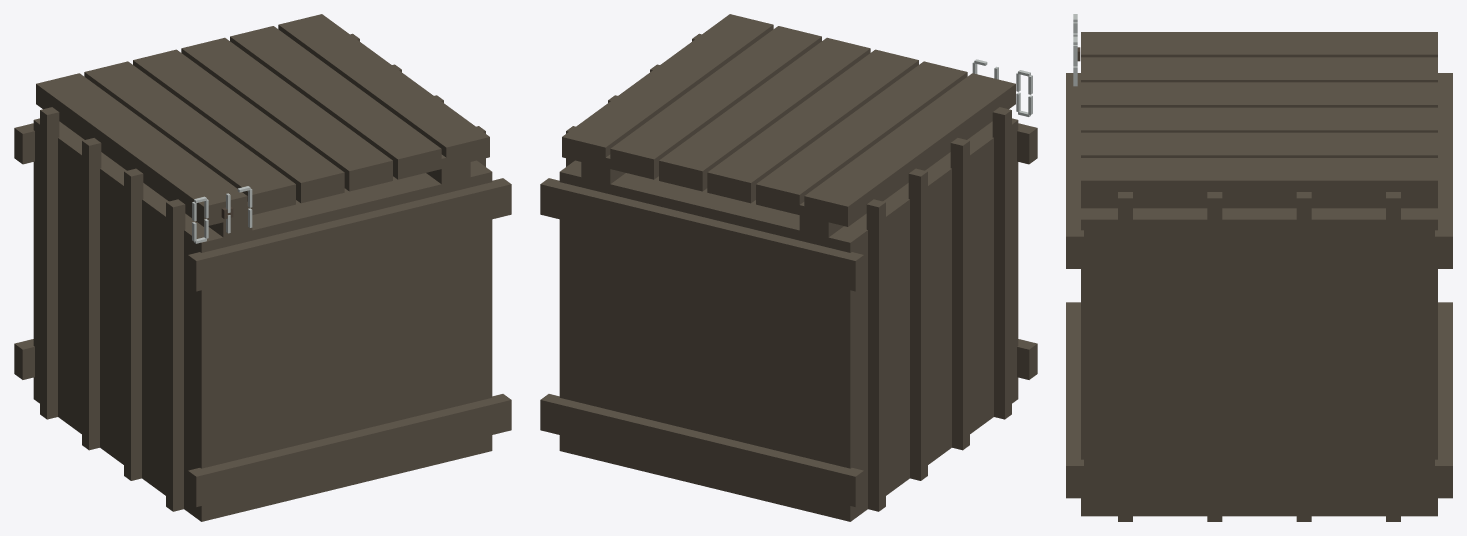
The model's file is crate-1.glb.
The picture shows the model from 3 angles, left to right: view 1: azimuth 30°, elevation 25°; view 2: azimuth 150°, elevation 25°; view 3: azimuth 270°, elevation 25°; orthographic projection. The views are drawn at different scales.
Visible parts, largest first — view 1: crate/0/KR-230-1; view 2: crate/0/KR-230-1; view 3: crate/0/KR-230-1.
Boxes of the visible parts, x1,y1,x2,y2 form: crate/0/KR-230-1: (14, 14, 511, 521); crate/0/KR-230-1: (540, 14, 1037, 521); crate/0/KR-230-1: (1066, 14, 1452, 521).
Size of the model in its own units: 1.3 by 1.28 by 1.3.
